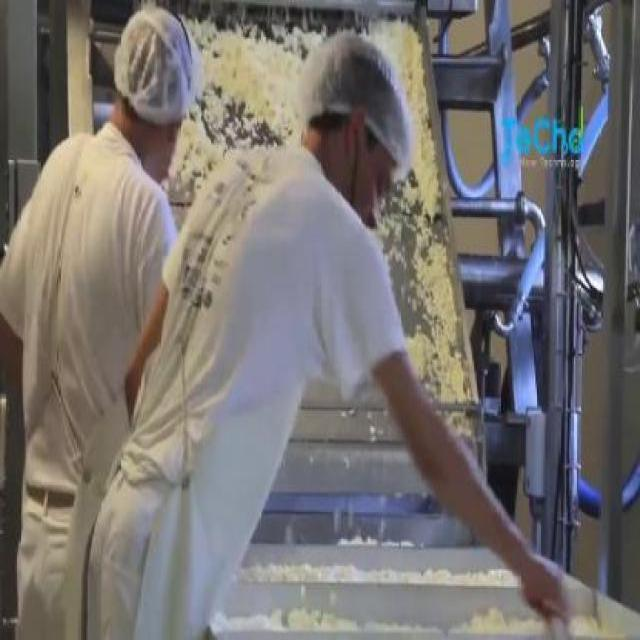bare_hand: (503, 539, 574, 640)
